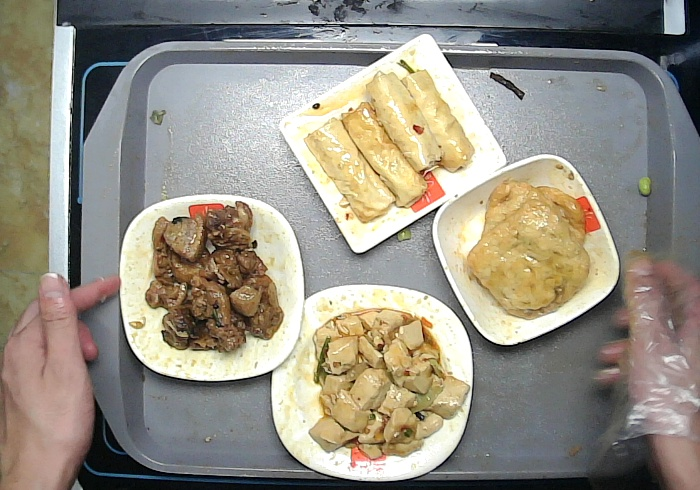SHKJ-Bai_Se_Cai_Die: (119, 193, 305, 383)
SHKJ-Bai_Se_Si_Fang_Cai_Die: (269, 282, 476, 482)
SHKJ-Bai_Se_Xiao_Fang_Die: (432, 153, 622, 346)
SHKJ-Si_Fang_Min: (275, 33, 509, 253)
